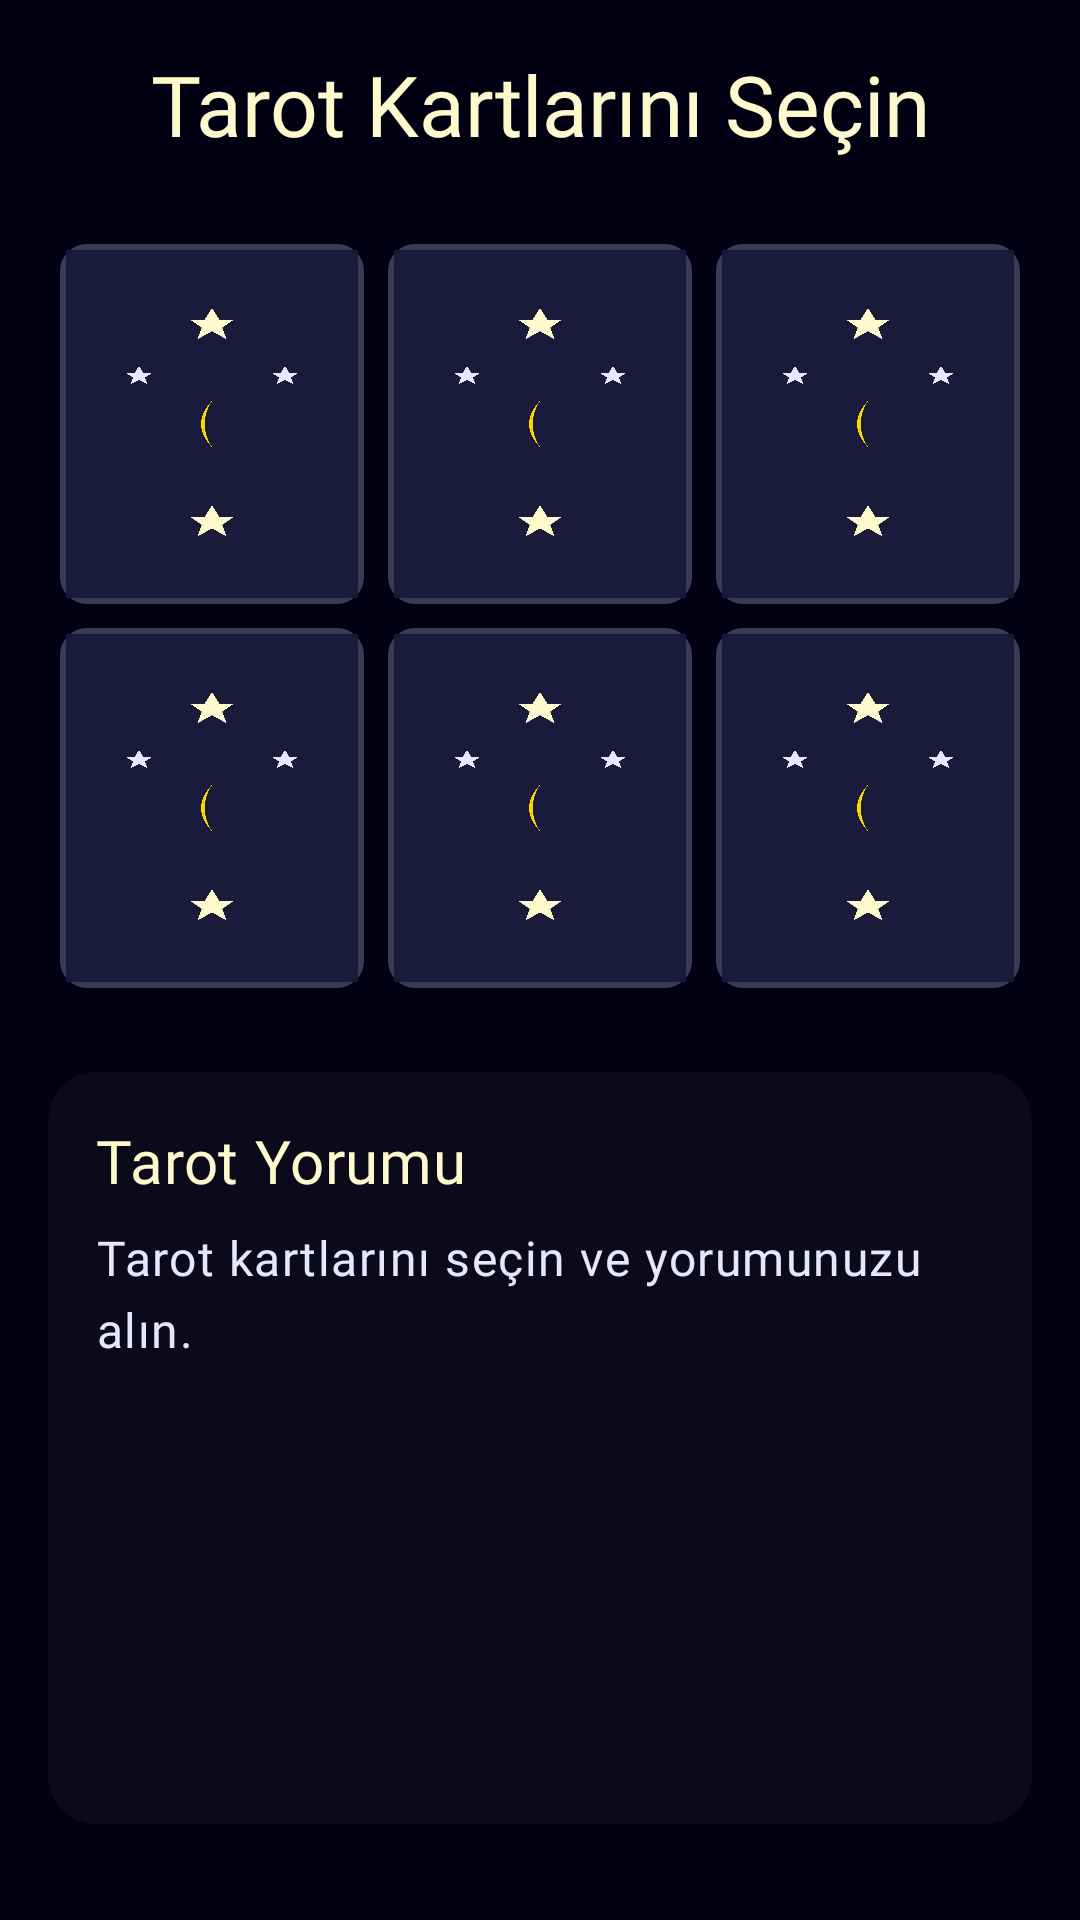

Screen size 1080px×1920px. Icon name, then its box in pixels as detection(x1, y1, x2, y2):
tarot card back: detection(60, 244, 364, 604), detection(388, 244, 692, 604), detection(716, 244, 1020, 604), detection(60, 628, 364, 988), detection(388, 628, 692, 988), detection(716, 628, 1020, 988)
